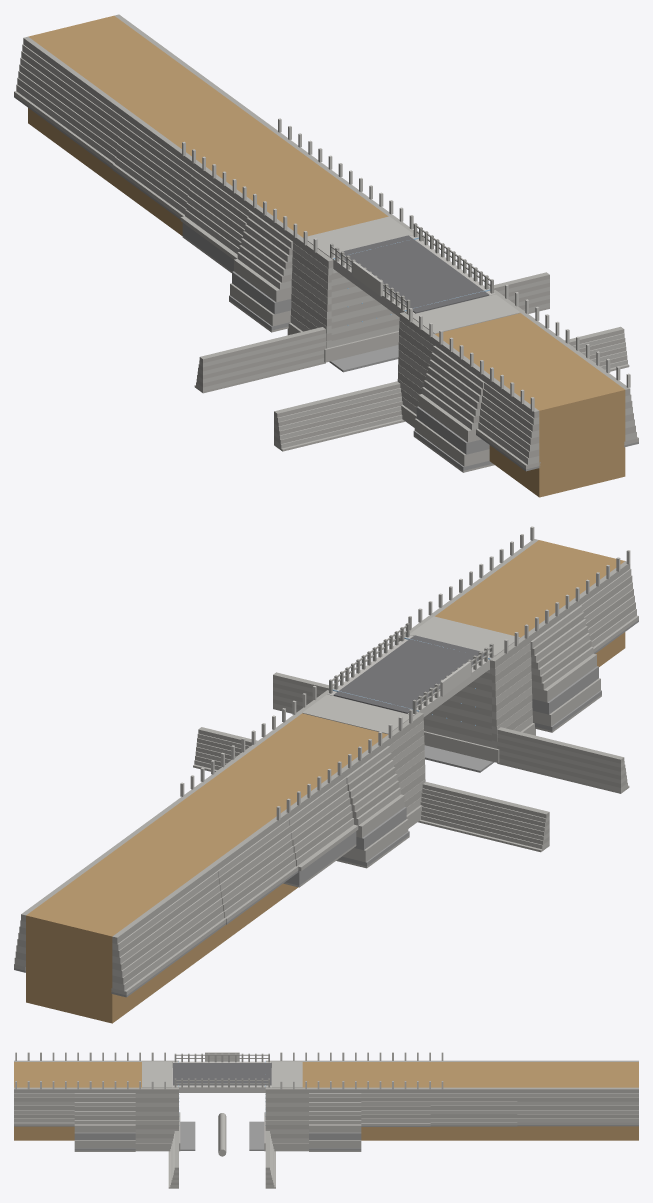
Rendered from bridge_model.glb.
The picture shows the model from 3 angles, top to bottom: view 1: azimuth 30°, elevation 25°; view 2: azimuth 150°, elevation 25°; view 3: azimuth 270°, elevation 25°; orthographic projection. The views are drawn at different scales.
Visible parts, largest first — view 1: EarthFill, RetainingWalls_Left_North, ProtectionWalls, Footings, RetainingWalls_Left_South, AsphaltWC, PCC, ApproachSlabs, WingWalls_Right, GuardStones, Abutment_Right, WingWalls_Left (+4 smaller); view 2: EarthFill, RetainingWalls_Left_North, ProtectionWalls, Footings, RetainingWalls_Left_South, AsphaltWC, PCC, ApproachSlabs, WingWalls_Left, GuardStones, Abutment_Left, WingWalls_Right (+3 smaller); view 3: EarthFill, RetainingWalls_Right_North, RetainingWalls_Right_South, Footings, PCC, WingWalls_Left, WingWalls_Right, AsphaltWC, ApproachSlabs, GuardStones, Handrails, ProtectionWalls (+5 smaller).
Boxes of the visible parts, x1,y1,x2,y2 form: EarthFill: (28,15,625,497); RetainingWalls_Left_North: (16,36,293,289); ProtectionWalls: (196,272,627,448); Footings: (14,91,638,472); RetainingWalls_Left_South: (422,338,539,464); AsphaltWC: (339,235,489,313); PCC: (14,95,638,471); ApproachSlabs: (303,216,520,333); WingWalls_Right: (290,212,424,348); GuardStones: (182,118,630,411); Abutment_Right: (331,272,399,346); WingWalls_Left: (397,290,530,414); EarthFill: (26,540,625,1023); RetainingWalls_Left_North: (112,738,400,990); ProtectionWalls: (194,672,627,849); Footings: (14,615,638,995); RetainingWalls_Left_South: (528,561,636,689); AsphaltWC: (333,635,484,713); PCC: (14,620,638,997); ApproachSlabs: (302,616,520,734); WingWalls_Left: (398,612,532,748); GuardStones: (180,526,630,820); Abutment_Left: (423,672,491,747); WingWalls_Right: (292,690,425,814); EarthFill: (14,1062,638,1140); RetainingWalls_Right_North: (309,1087,638,1124); RetainingWalls_Right_South: (14,1087,135,1124); Footings: (14,1112,638,1188); PCC: (14,1121,638,1150); WingWalls_Left: (135,1060,178,1142); WingWalls_Right: (265,1060,308,1142); AsphaltWC: (173,1063,271,1085); ApproachSlabs: (142,1061,302,1087); GuardStones: (15,1052,443,1089); Handrails: (174,1053,269,1087); ProtectionWalls: (170,1131,274,1187).
Size of the model in its own units: 28.2 by 10.82 by 72.
